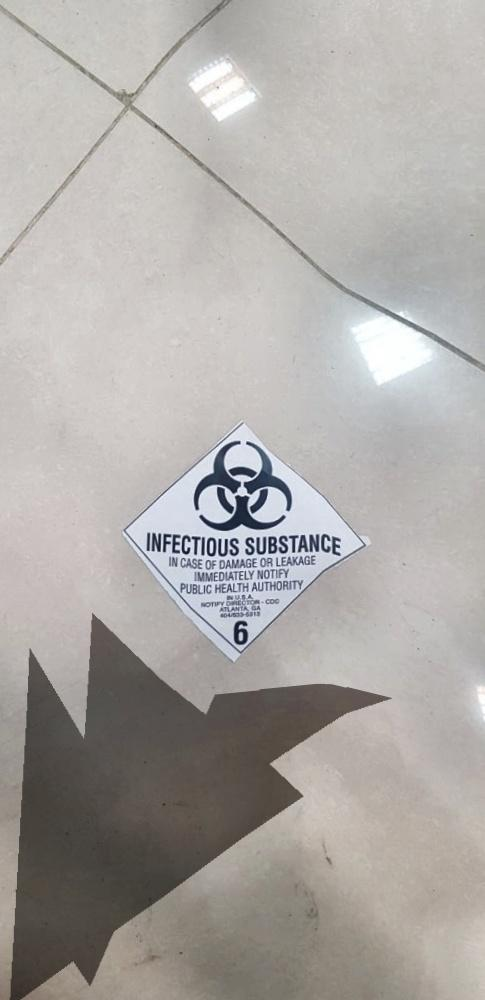infectious-substance: (118, 415, 377, 665)
